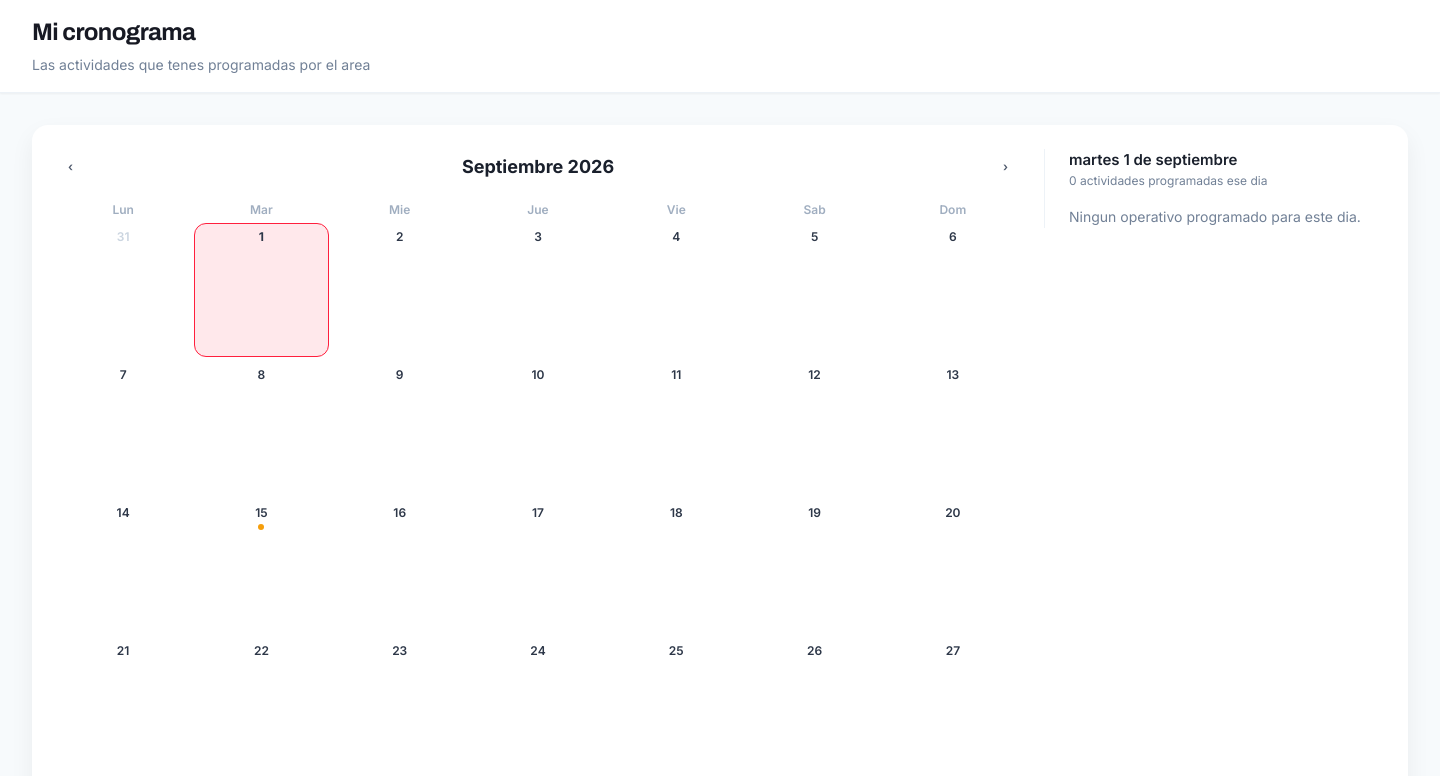
Test case: CronogramaPage › muestra el mes actual con el dia de una actividad programada marcado
Expected: the heading "Septiembre 2026" is shown, [462,154,614,179]
Click the button named "15 de septiembre" at [261, 566], box [194,499,329,634]
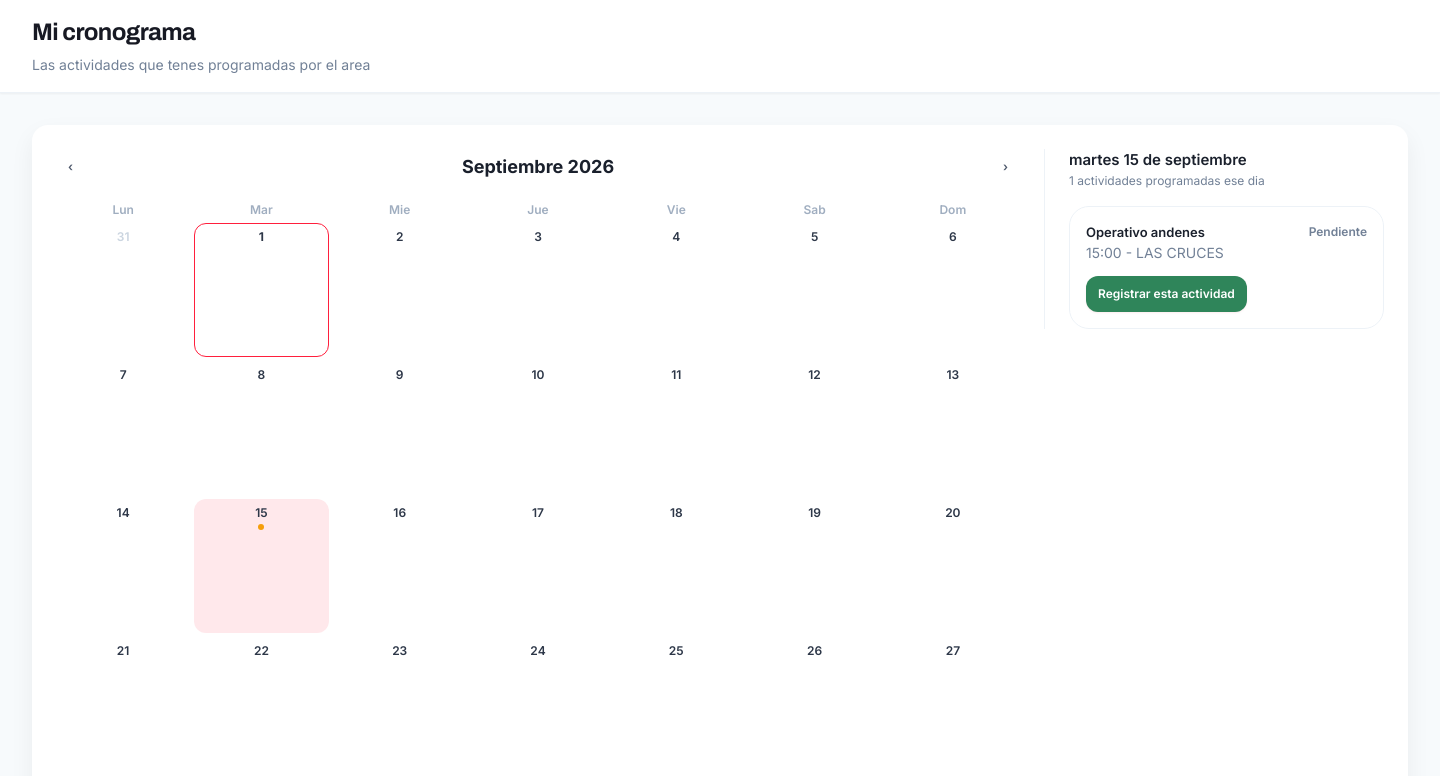
Result: the text "Operativo andenes" is shown at [1086,223,1224,242]
